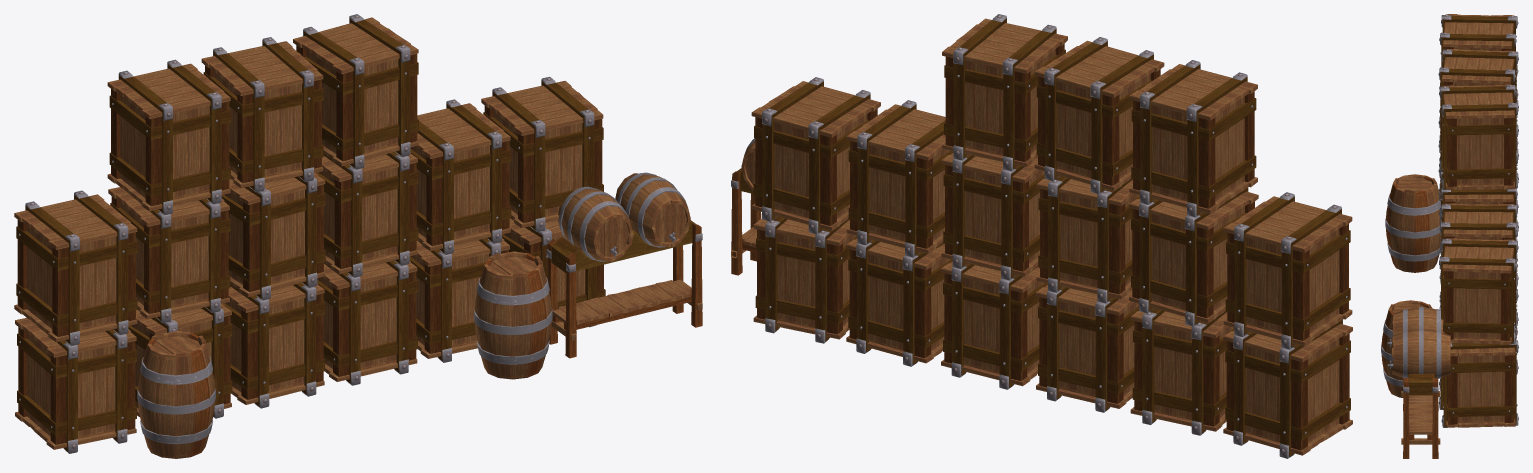
Rendered from cover.glb.
3 views of the same model, side by side, from view 1: azimuth 30°, elevation 25°; view 2: azimuth 150°, elevation 25°; view 3: azimuth 270°, elevation 25° (orthographic). The views are drawn at different scales.
Visible parts, largest first — view 1: Barrel; view 2: Barrel; view 3: Barrel.
Boxes of the visible parts, <box> form: Barrel: <box>14,14,702,458</box>; Barrel: <box>731,14,1352,458</box>; Barrel: <box>1381,14,1518,458</box>.
Size of the model in its own units: 5.99 by 3 by 1.49.
Materials: 36 (36 with a texture image).
